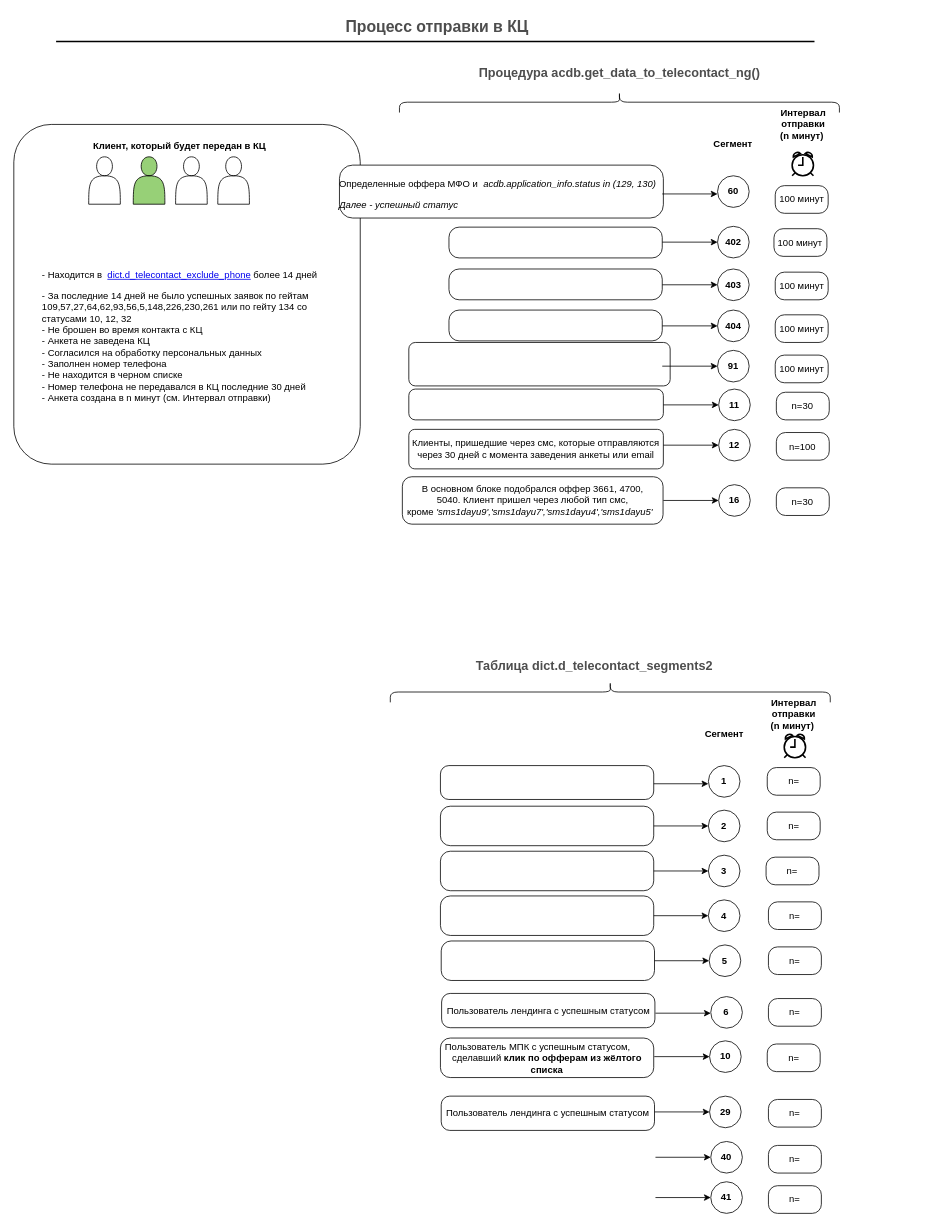
The diagram is 946 pixels wide and 1228 high, and some of its shapes have lost their labels. Each missing label, with the centre of its shape:
Нет предподбора в основном блоке, есть предподбор в "Вам возможно подойдёт": [535,404]
Оффер Росбанка, цель – 2 или 7, успешный статус: [539,364]
Пользователь МПК с успешным статусом, не сделавший ни одного клика: [547,825]
Пользователь МПК с успешным статусом, сделавший 1 клик: [547,870]
Пользователь МПК с успешным статусом, сделавший 2 клика: [547,915]
Пользователь МПК с успешным статусом, сделавший 3 клика: [547,960]
Пользователь МПК, не завершивший анкету: [547,782]
Цель – ипотека + НЕ рефин и успешный статус: [555,284]
Цель – ипотека + рефин и успешный статус: [555,242]
Цель – ипотека и успешный статус: [555,325]
